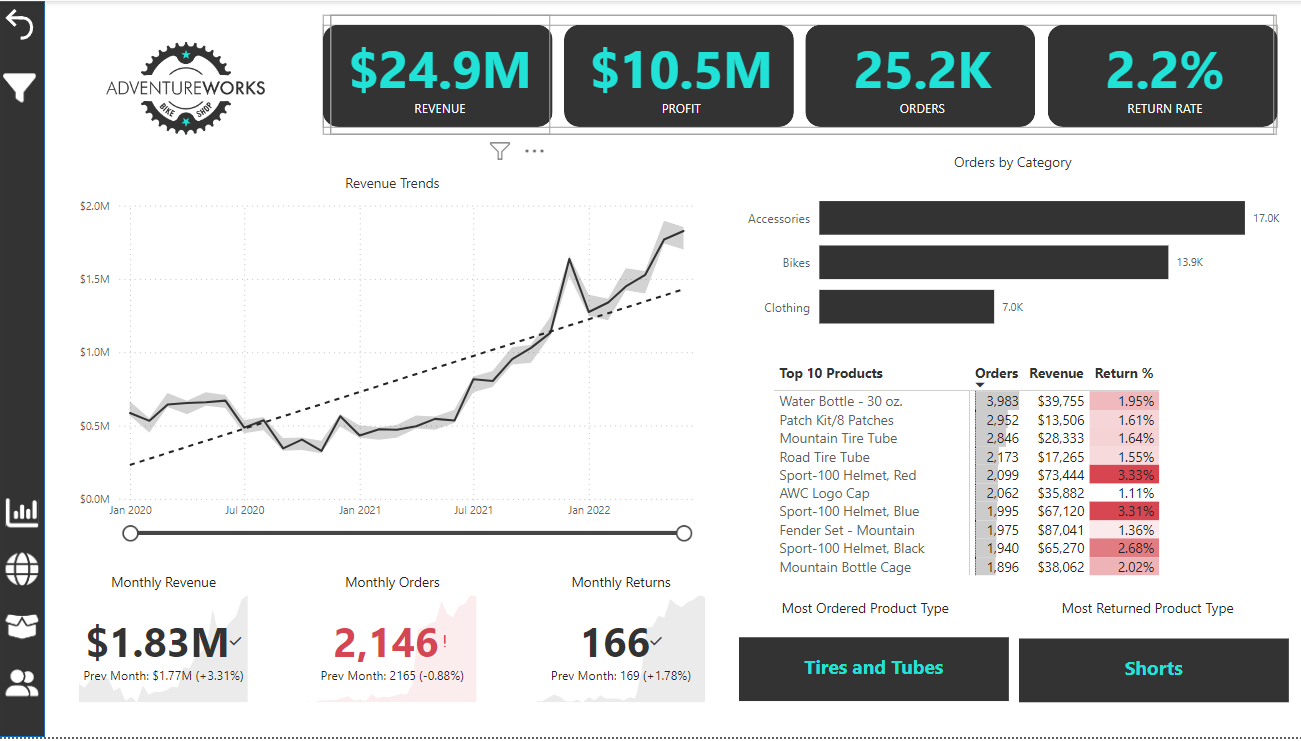

Layout of this report page (visuals, bound fields, positions):
{"tool":"powerbi","page":{"name":"Exec Dasboard","canvas":[1280,720],"ordinal":0},"visuals":[{"type":"card","fields":{"Values":["Measures Table.Total Revenue"]},"box":[323.2,13.8,215,117.5],"z":0,"group":"g2"},{"type":"group","id":"g1","title":"KPI Background","box":[316.2,23.8,933.8,100],"z":0,"group":"g3"},{"type":"shape","box":[316.2,23.8,225,100],"z":0,"group":"g1"},{"type":"image","title":"AW Logo","box":[73.8,32.5,218.8,105],"z":0},{"type":"actionButton","box":[2.8,480.4,45.2,40.3],"z":0,"group":"g4"},{"type":"shape","title":"Left Nav Background","box":[0,0,45,720],"z":1000},{"type":"group","id":"g2","title":"KPI Values","box":[323.2,13.8,923.8,117.5],"z":1000,"group":"g3"},{"type":"card","fields":{"Values":["Measures Table.Total Profit"]},"box":[559.4,13.8,215,117.5],"z":1000,"group":"g2"},{"type":"shape","box":[788.7,23.8,225,100],"z":1000,"group":"g1"},{"type":"actionButton","box":[2.8,535.8,45.2,40.3],"z":1000,"group":"g4"},{"type":"group","id":"g3","title":"KPI's","box":[316.2,13.8,933.8,117.5],"z":2000},{"type":"card","fields":{"Values":["Measures Table.Return Rate"]},"box":[1032,13.8,215,117.5],"z":2000,"group":"g2"},{"type":"shape","box":[1025,23.8,225,100],"z":2000,"group":"g1"},{"type":"actionButton","box":[2.8,591.2,45.2,40.3],"z":2000,"group":"g4"},{"type":"card","fields":{"Values":["Measures Table.Total Orders"]},"box":[795.7,13.8,215,117.5],"z":3000,"group":"g2"},{"type":"shape","box":[552.4,23.8,225,100],"z":3000,"group":"g1"},{"type":"lineChart","title":"Revenue Trends","fields":{"Y":["Measures Table.Total Revenue"],"Category":["Calendar Lookup.Start of Month"]},"box":[73.8,168.8,622.5,362.5],"z":3000},{"type":"actionButton","box":[2.8,646.6,45.2,40.3],"z":3000,"group":"g4"},{"type":"kpi","title":"Monthly Revenue","fields":{"Indicator":["Measures Table.Total Revenue"],"TrendLine":["Calendar Lookup.Start of Month"],"Goal":["Measures Table.Previous Month Revenue"]},"box":[73.8,558.8,175,132.5],"z":4000},{"type":"kpi","title":"Monthly Orders","fields":{"TrendLine":["Calendar Lookup.Start of Month"],"Indicator":["Measures Table.Total Orders"],"Goal":["Measures Table.Previous Month Orders"]},"box":[297.5,558.8,175,132.5],"z":5000},{"type":"kpi","title":"Monthly Returns","fields":{"TrendLine":["Calendar Lookup.Start of Month"],"Indicator":["Measures Table.Total Returns"],"Goal":["Measures Table.Previous Month Returns"]},"box":[521.2,558.8,175,132.5],"z":6000},{"type":"clusteredBarChart","title":"Orders by Category","fields":{"Category":["Product Categories Lookup.CategoryName"],"Y":["Measures Table.Total Orders"]},"box":[722.4,147.9,537.9,191.9],"z":7000},{"type":"pivotTable","fields":{"Rows":["Product Lookup.ProductName"],"Values":["Measures Table.Total Orders","Measures Table.Total Revenue","Measures Table.Return Rate"]},"box":[753,349.6,431.5,218.8],"z":8000},{"type":"card","fields":{"Values":["Min(Product Subcategories Lookup.SubcategoryName)"]},"box":[724,622.4,264,62],"z":9000},{"type":"textbox","box":[760,579.1,193.3,43.3],"z":10000},{"type":"card","fields":{"Values":["Min(Product Subcategories Lookup.SubcategoryName)"]},"box":[998.3,623.2,264,62],"z":11000},{"type":"textbox","box":[1034.4,579.9,193.3,43.3],"z":12000},{"type":"actionButton","box":[0,2.4,45.2,40.3],"z":13000},{"type":"group","id":"g4","title":"Navigation Icons","box":[2.8,480.4,45.2,206.6],"z":14000},{"type":"actionButton","box":[0,64.8,47.7,40.3],"z":15000}]}

Visuals, with their boxes on the page's 1280x720 design canvas (x1, y1, x2, y2). These are canvas units, not pixel positions in the 1301x741 screenshot, which may show the page scaled, cropped or inside an application window:
card - Measures Table.Total Revenue: l=323, t=14, r=538, b=131
"KPI Background" group: l=316, t=24, r=1250, b=124
shape: l=316, t=24, r=541, b=124
"AW Logo" image: l=74, t=32, r=293, b=138
actionButton: l=3, t=480, r=48, b=521
"Left Nav Background" shape: l=0, t=0, r=45, b=720
"KPI Values" group: l=323, t=14, r=1247, b=131
card - Measures Table.Total Profit: l=559, t=14, r=774, b=131
shape: l=789, t=24, r=1014, b=124
actionButton: l=3, t=536, r=48, b=576
"KPI's" group: l=316, t=14, r=1250, b=131
card - Measures Table.Return Rate: l=1032, t=14, r=1247, b=131
shape: l=1025, t=24, r=1250, b=124
actionButton: l=3, t=591, r=48, b=632
card - Measures Table.Total Orders: l=796, t=14, r=1011, b=131
shape: l=552, t=24, r=777, b=124
"Revenue Trends" lineChart: l=74, t=169, r=696, b=531
actionButton: l=3, t=647, r=48, b=687
"Monthly Revenue" kpi: l=74, t=559, r=249, b=691
"Monthly Orders" kpi: l=298, t=559, r=472, b=691
"Monthly Returns" kpi: l=521, t=559, r=696, b=691
"Orders by Category" clusteredBarChart: l=722, t=148, r=1260, b=340
pivotTable - Product Lookup.ProductName x Measures Table.Total Orders: l=753, t=350, r=1184, b=568
card - Min(Product Subcategories Lookup.SubcategoryName): l=724, t=622, r=988, b=684
textbox: l=760, t=579, r=953, b=622
card - Min(Product Subcategories Lookup.SubcategoryName): l=998, t=623, r=1262, b=685
textbox: l=1034, t=580, r=1228, b=623
actionButton: l=0, t=2, r=45, b=43
"Navigation Icons" group: l=3, t=480, r=48, b=687
actionButton: l=0, t=65, r=48, b=105
